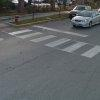Crosswalk: (13, 25, 96, 66)
